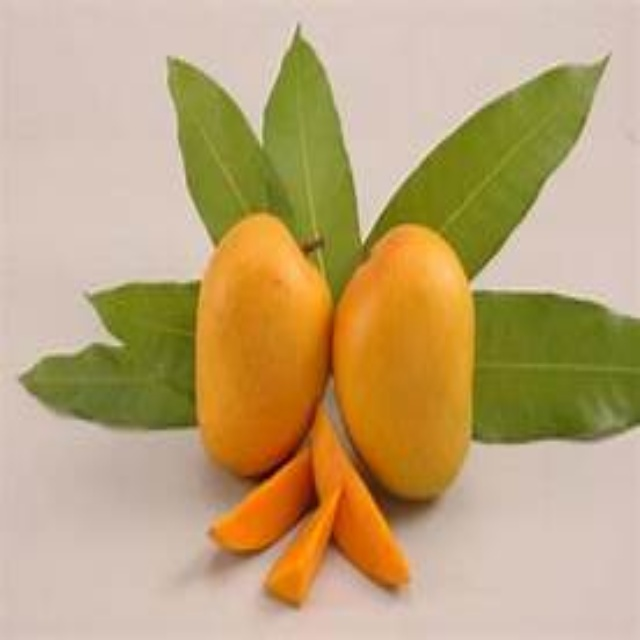mango: (333, 224, 473, 505), (193, 217, 332, 483)
